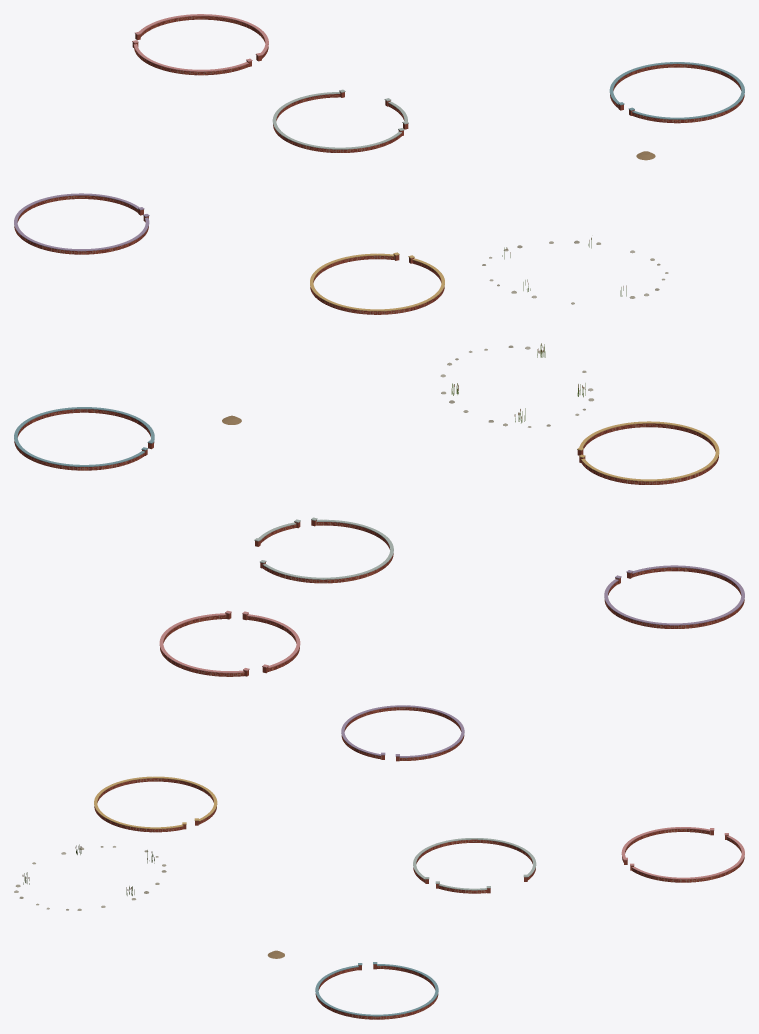
File: world-props.glb
The picture shows the model from 3 angles, top to bottom: view 1: azimuth 30°, elevation 25°; view 2: azimuth 150°, elevation 25°; view 3: azimuth 270°, elevation 25°; orthographic projection. The views are drawn at different scales.
Parts seen in each view (by area): view 1: walls, gateposts; view 2: walls, gateposts; view 3: walls.
Part boxes in pixels (x1=…): walls: x1=14, y1=14, x2=744, y2=314; gateposts: x1=132, y1=31, x2=634, y2=263; walls: x1=14, y1=407, x2=744, y2=676; gateposts: x1=141, y1=440, x2=633, y2=676; walls: x1=94, y1=705, x2=744, y2=1019.
Bounding box in the file's own units: 84.15 × 1.49 × 83.67.
